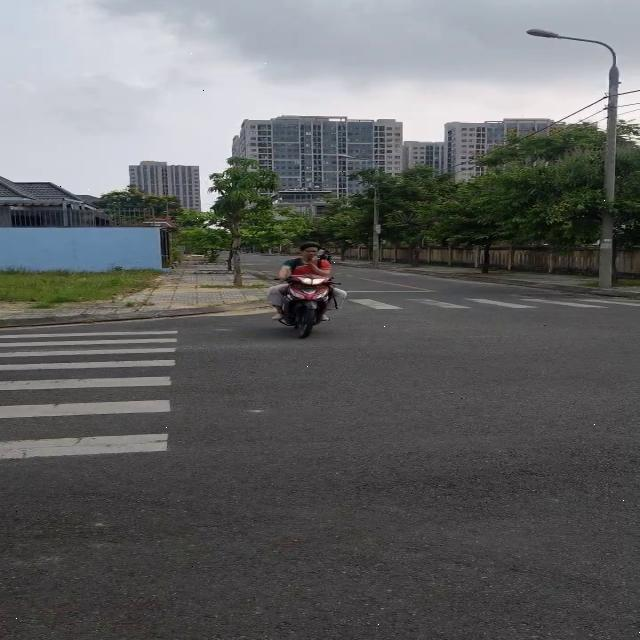no_helmet: (298, 242, 332, 264)
